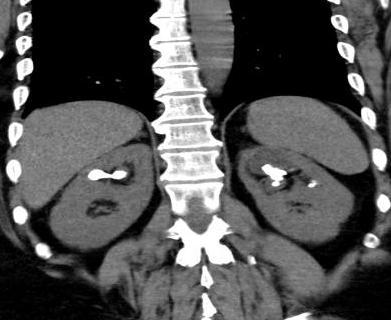Tas_Var: (261, 162, 288, 182), (86, 168, 111, 182), (111, 170, 130, 181), (271, 180, 281, 188), (308, 182, 318, 188)
